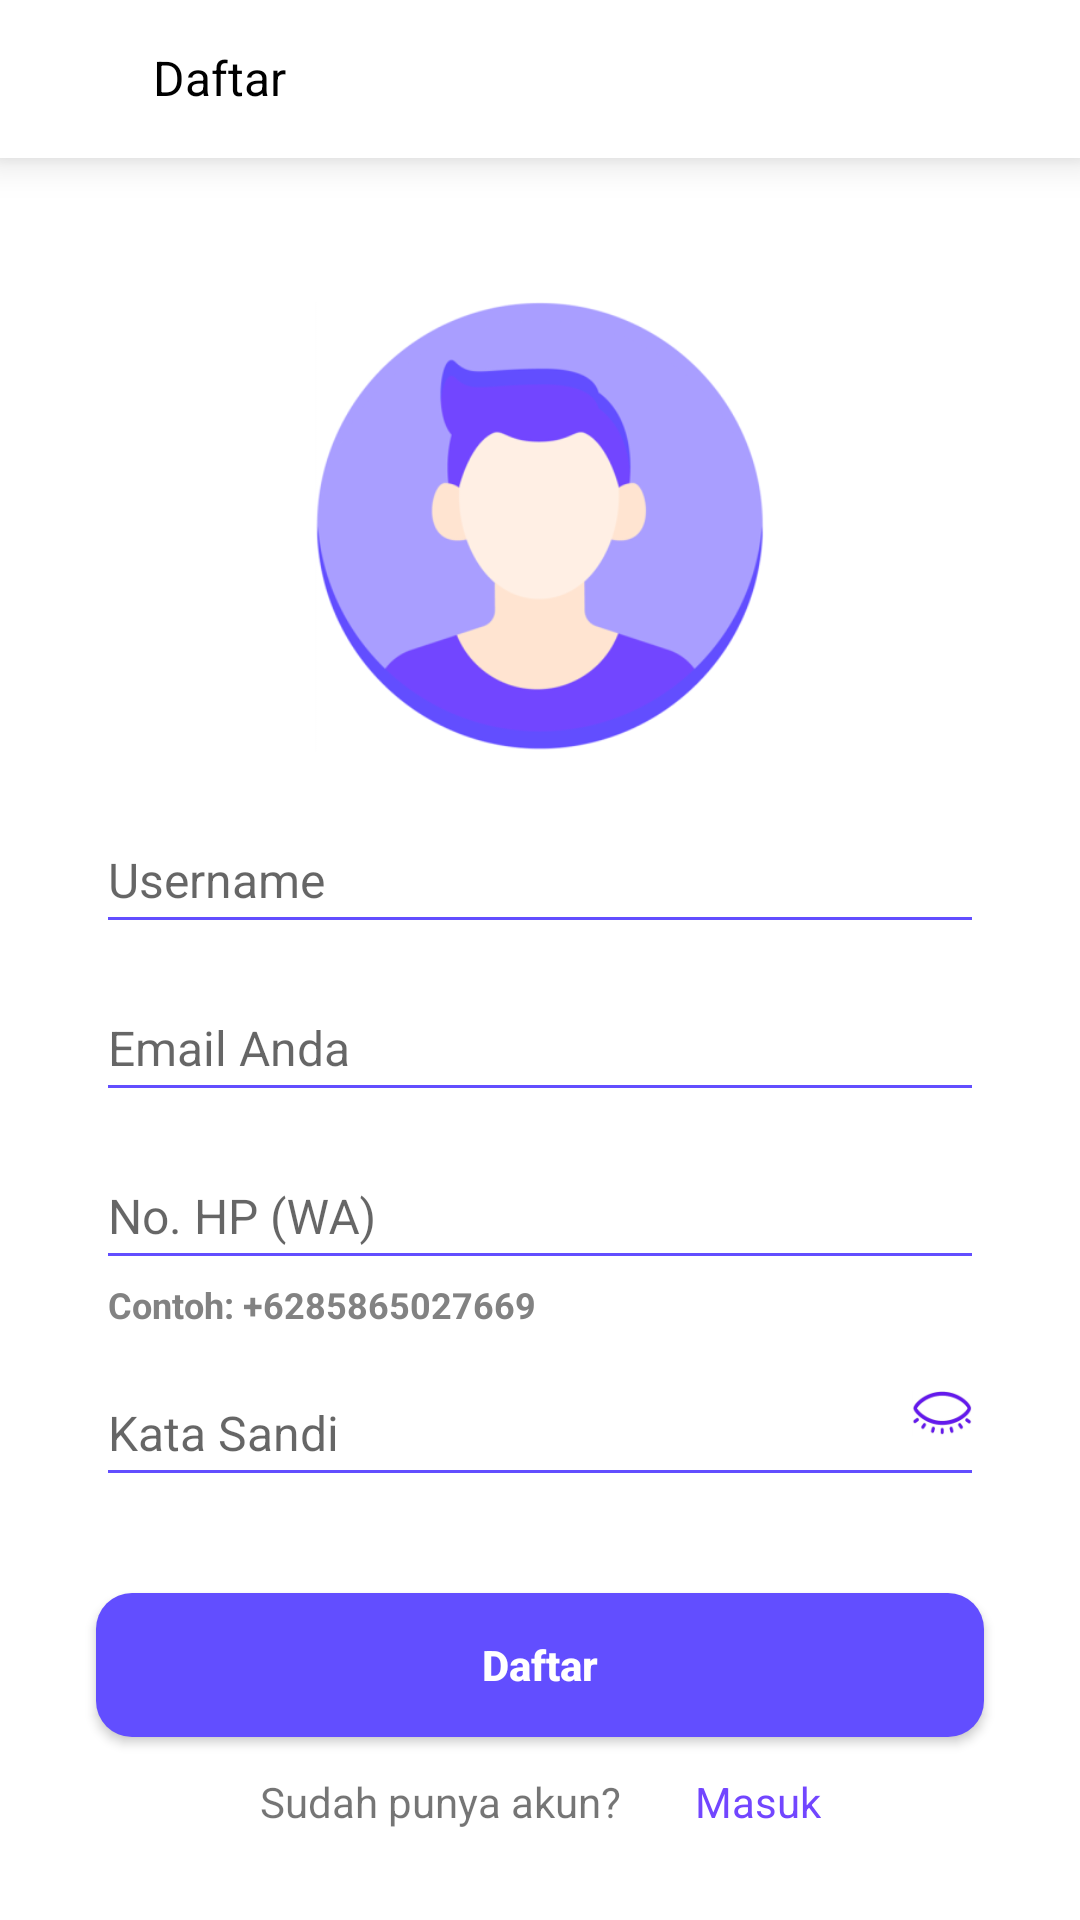

Screen size 1080×1920. Icon name, then its center in pixels as point (x, y):
matanutup: point (942, 1413)
